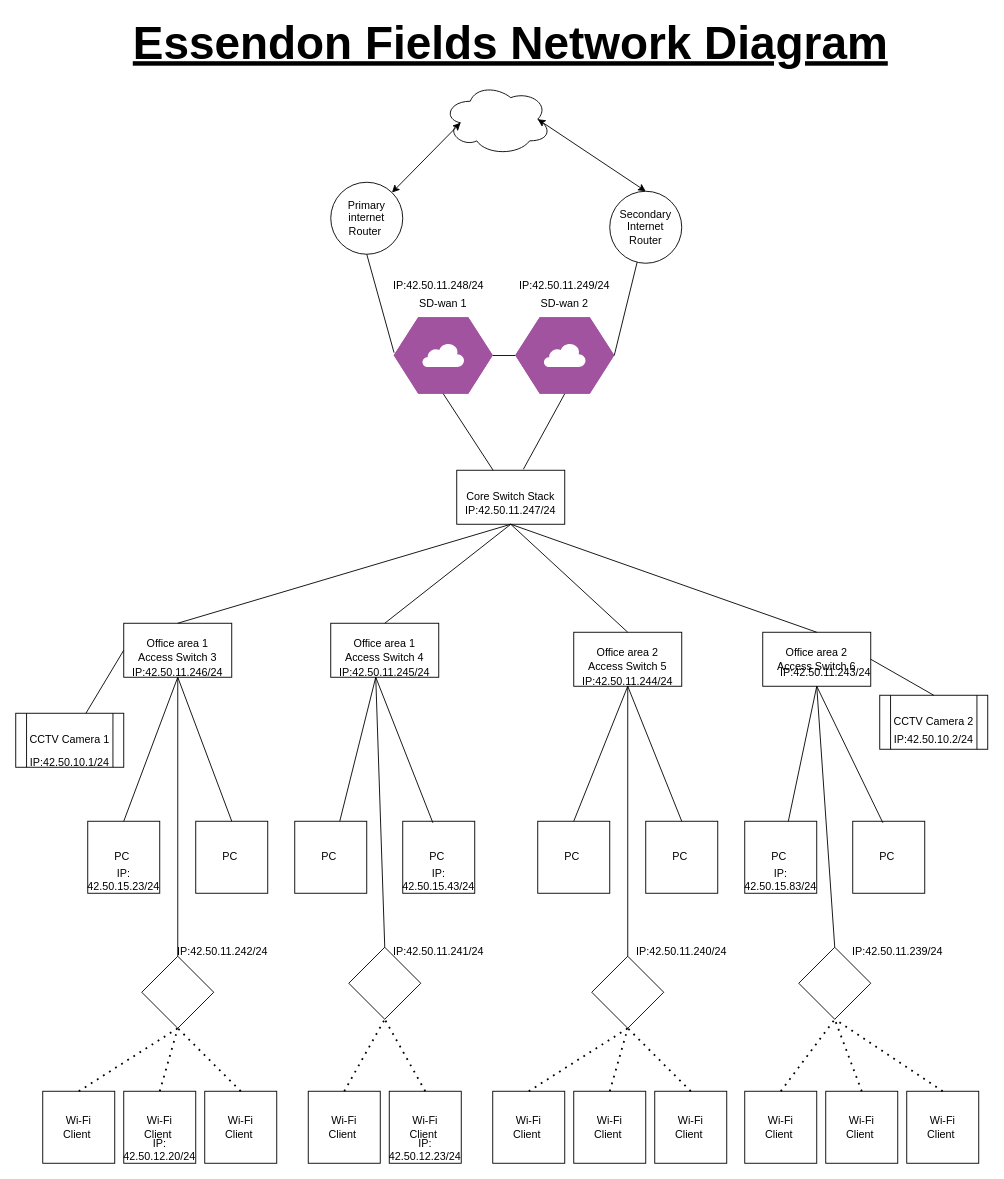
Image size: 1004x1179. Some labels were removed from this diagram. Here are the shapes that lost their labels. From the top down, the centre of each, then its label:
At point (496, 118): "Internet".
At point (177, 991): "AP1".
At point (384, 982): "AP2".
At point (627, 991): "AP3".
At point (834, 982): "AP4".
